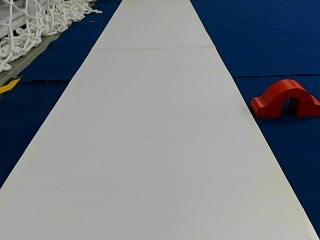bridge: (253, 79, 317, 117)
